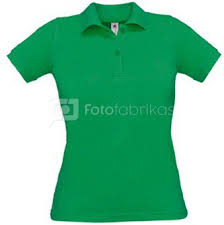S_polo shirt: (10, 7, 224, 223)
